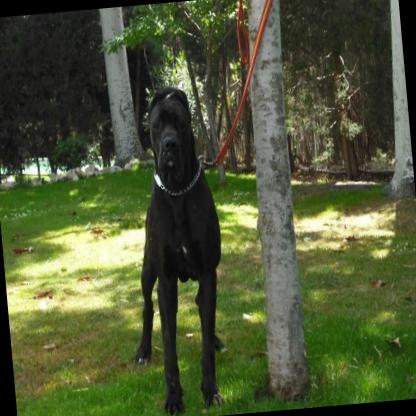Great_Dane: (109, 82, 235, 416)
